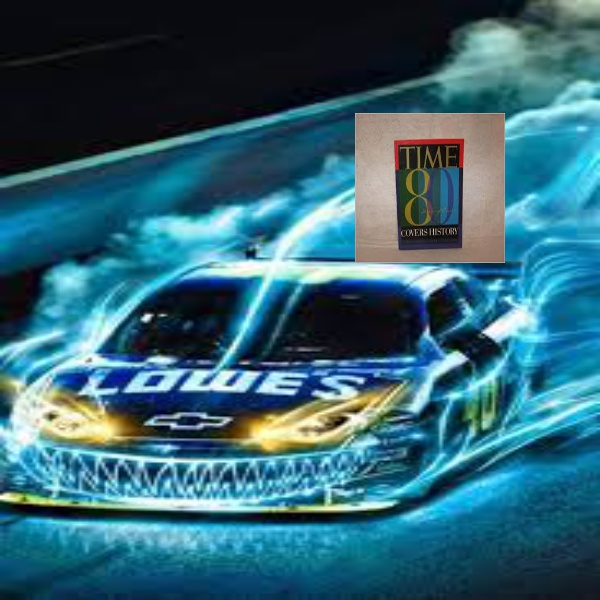time_cover: (379, 123, 479, 253)
